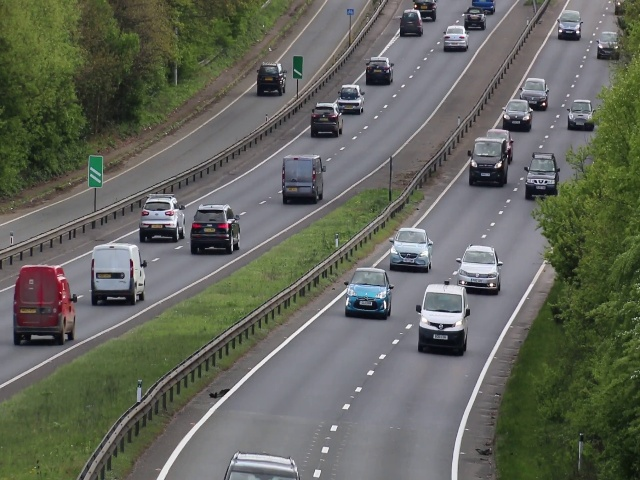car: (12, 266, 77, 353), (91, 243, 148, 308), (419, 283, 467, 354), (191, 203, 241, 259), (347, 268, 392, 321), (138, 192, 186, 241), (458, 243, 502, 294), (282, 153, 326, 203), (389, 225, 433, 274), (470, 141, 506, 187), (308, 100, 347, 137), (524, 154, 553, 195), (258, 60, 286, 97), (333, 83, 365, 114), (504, 98, 531, 134), (554, 10, 582, 39), (568, 98, 592, 131), (365, 58, 394, 85), (399, 8, 425, 38), (442, 24, 469, 52), (525, 77, 546, 106), (463, 5, 487, 30), (595, 29, 617, 56)
